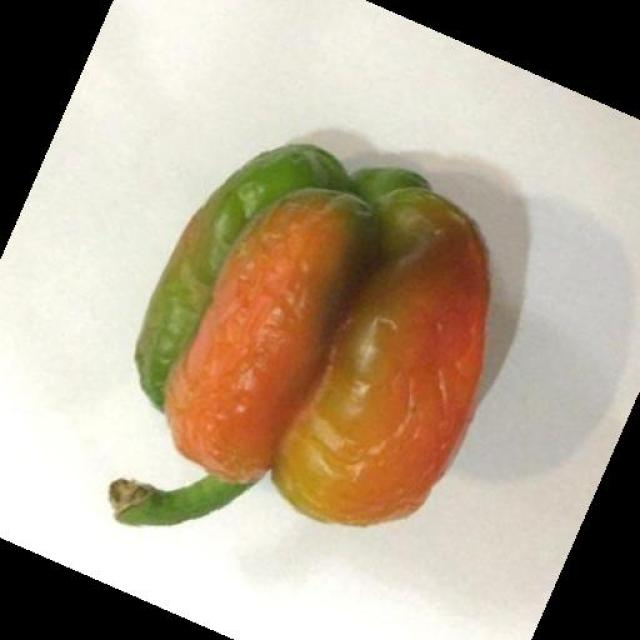Stale_Capsicum: (138, 132, 482, 521)
